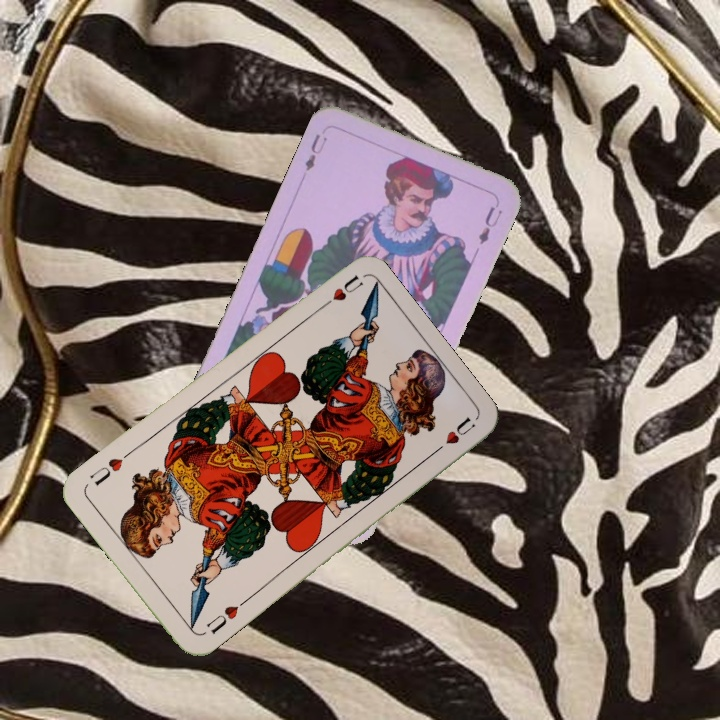EU: (300, 130, 330, 174)
HU: (314, 271, 366, 313), (202, 596, 249, 637)
